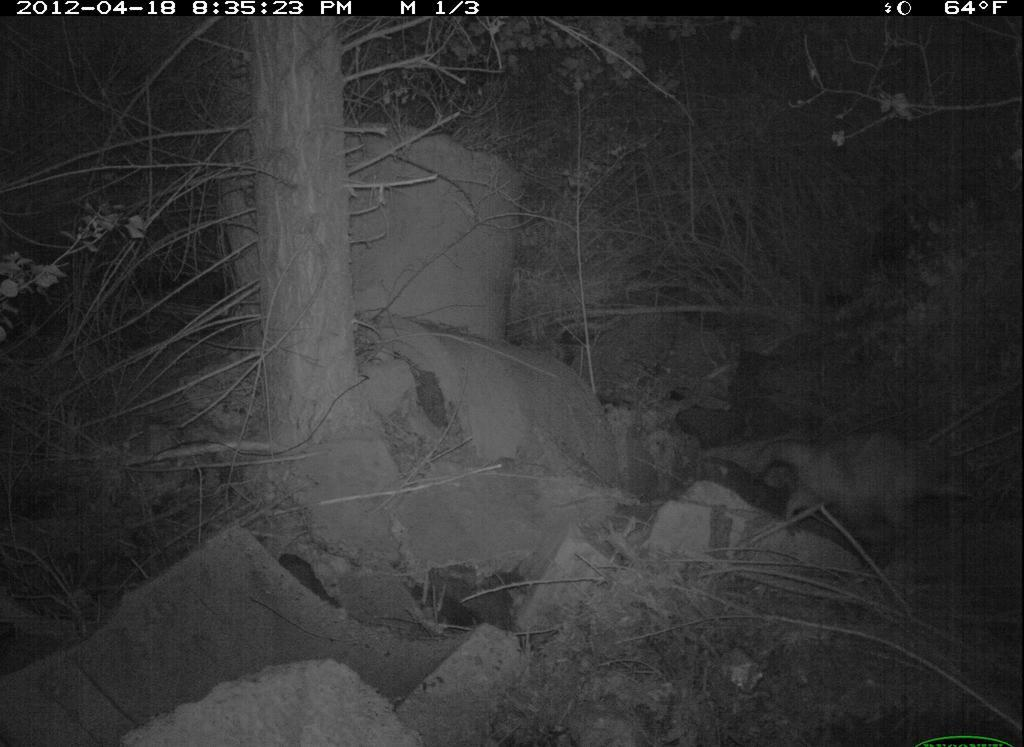raccoon: (743, 424, 986, 541)
